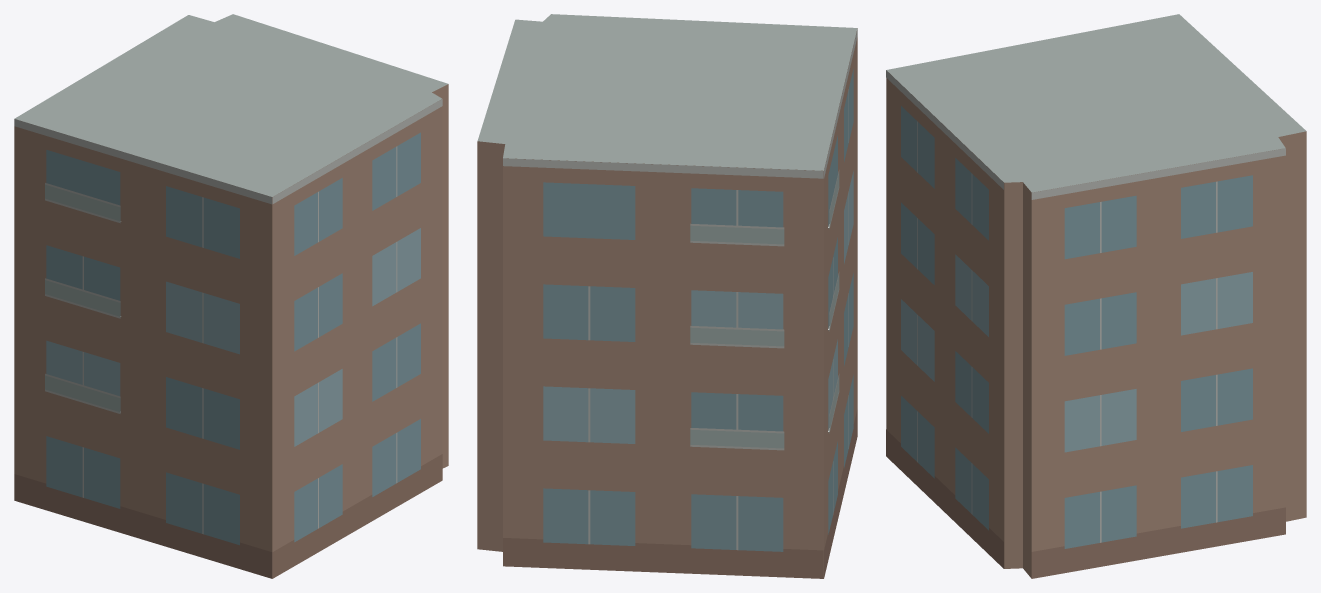
File: survey-upis-32679453.glb
3 renders of one model, left to right at view 1: azimuth 30°, elevation 25°; view 2: azimuth 150°, elevation 25°; view 3: azimuth 270°, elevation 25°, orthographic. The views are drawn at different scales.
Visible parts, largest first — view 1: survey-upis-32679453.tmp; view 2: survey-upis-32679453.tmp; view 3: survey-upis-32679453.tmp.
Boxes of the visible parts, x1,y1,x2,y2 form: survey-upis-32679453.tmp: (14, 14, 448, 578); survey-upis-32679453.tmp: (477, 14, 857, 578); survey-upis-32679453.tmp: (886, 14, 1306, 578).
Bounding box in the file's own units: 12.5 × 12.6 × 12.44.
